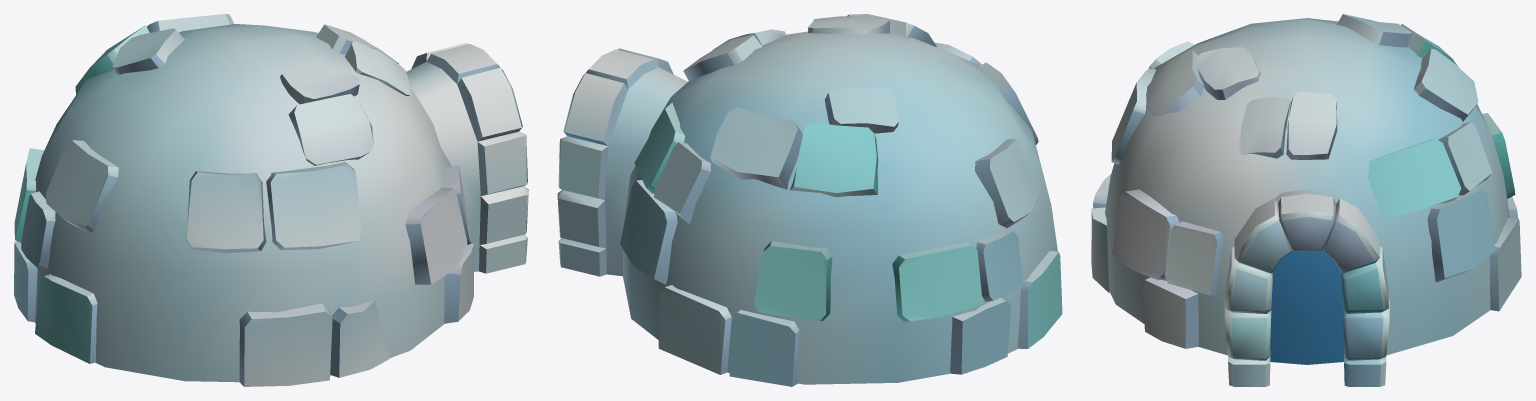
File: Igloo.fbx
3 views of the same model, side by side, from view 1: azimuth 30°, elevation 25°; view 2: azimuth 150°, elevation 25°; view 3: azimuth 270°, elevation 25° (orthographic). The views are drawn at different scales.
Visible parts, largest first — view 1: Igloo; view 2: Igloo; view 3: Igloo.
Boxes of the visible parts, x1=… form: Igloo: x1=14, y1=14, x2=528, y2=386; Igloo: x1=557, y1=14, x2=1062, y2=386; Igloo: x1=1091, y1=14, x2=1521, y2=386.
Bounding box in the file's own units: 263 × 141 × 233.
